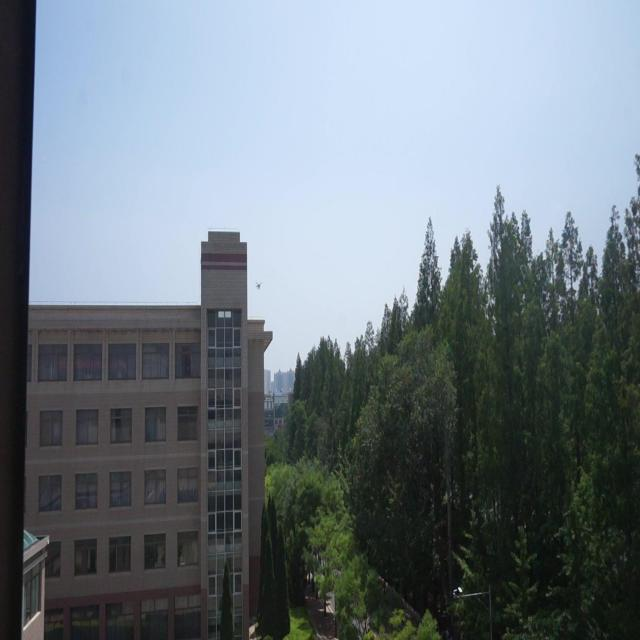UAV: (256, 282, 262, 289)
